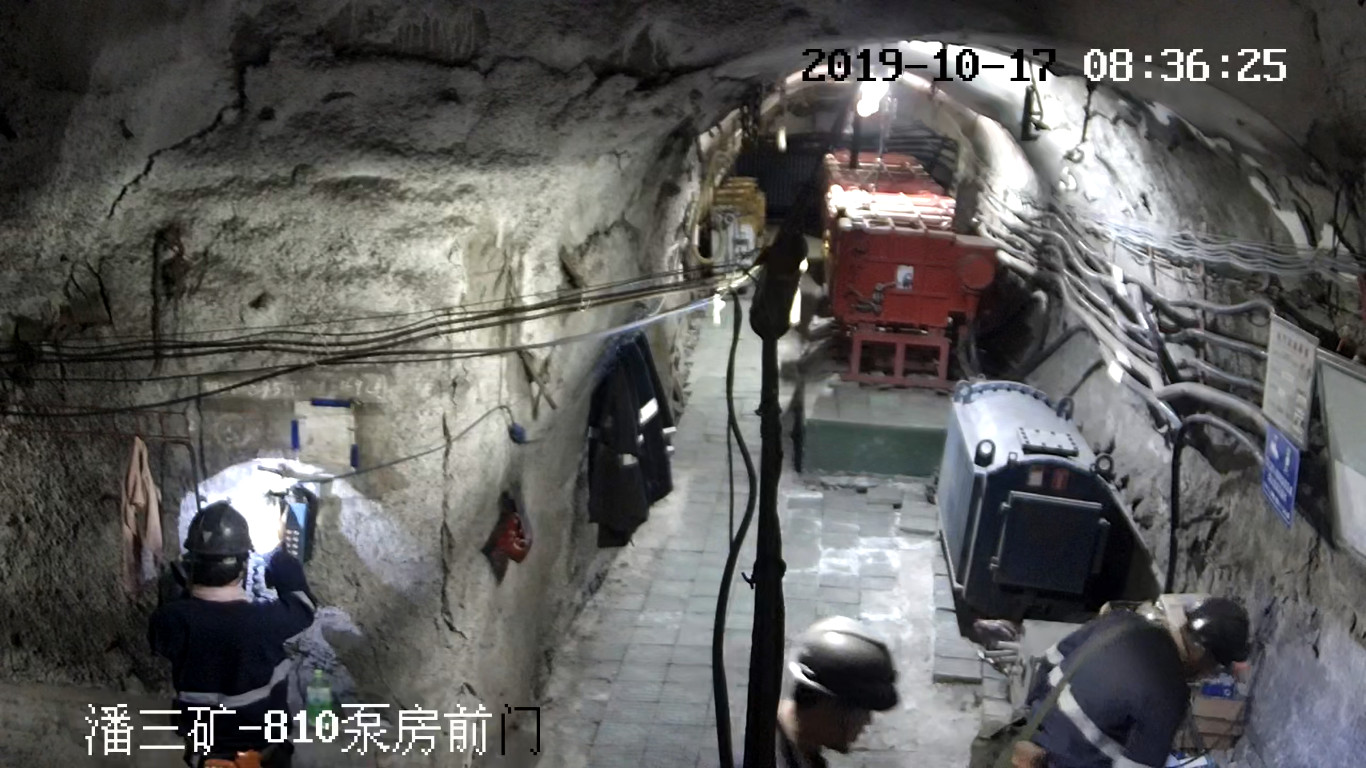helmet: (182, 500, 252, 554)
